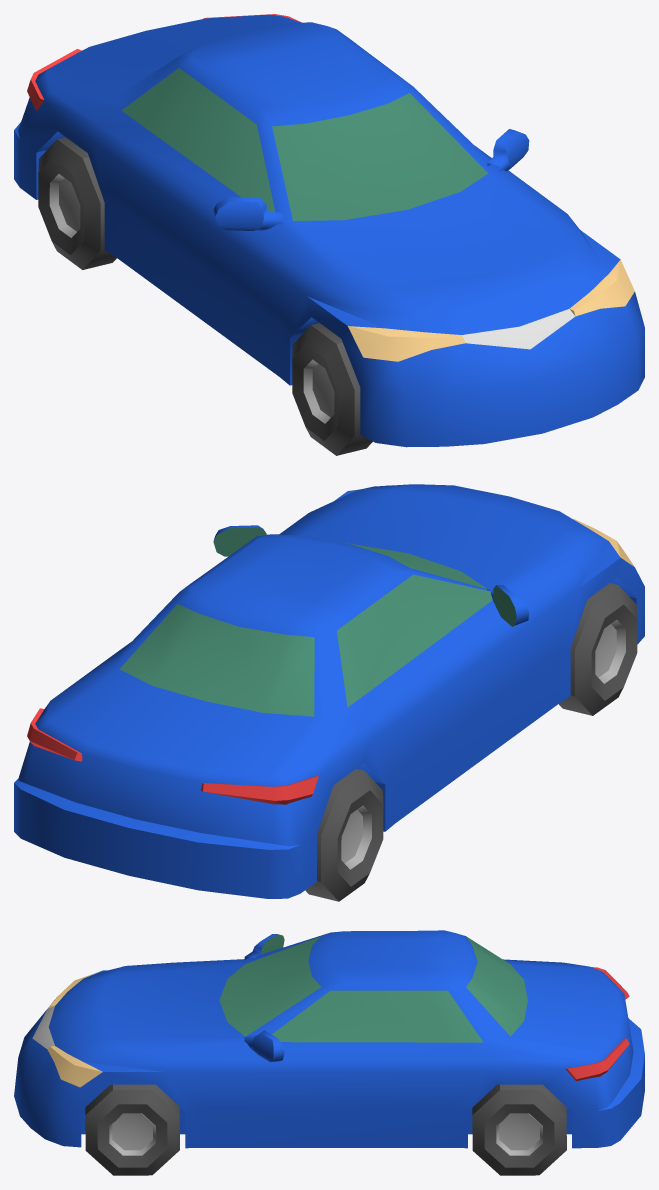
The model's file is Town_Vehicle_Sedan.FBX.
3 views of the same model, one above another, from view 1: azimuth 30°, elevation 25°; view 2: azimuth 150°, elevation 25°; view 3: azimuth 270°, elevation 25° (orthographic). The views are drawn at different scales.
Parts seen in each view (by area): view 1: Vehicle_Sedan; view 2: Vehicle_Sedan; view 3: Vehicle_Sedan.
Part boxes in pixels (box(x1,y1,x2,y2)): Vehicle_Sedan: box(14, 14, 644, 455); Vehicle_Sedan: box(14, 484, 644, 901); Vehicle_Sedan: box(14, 930, 644, 1175).
Bounding box in the file's own units: 131 × 88.26 × 299.
